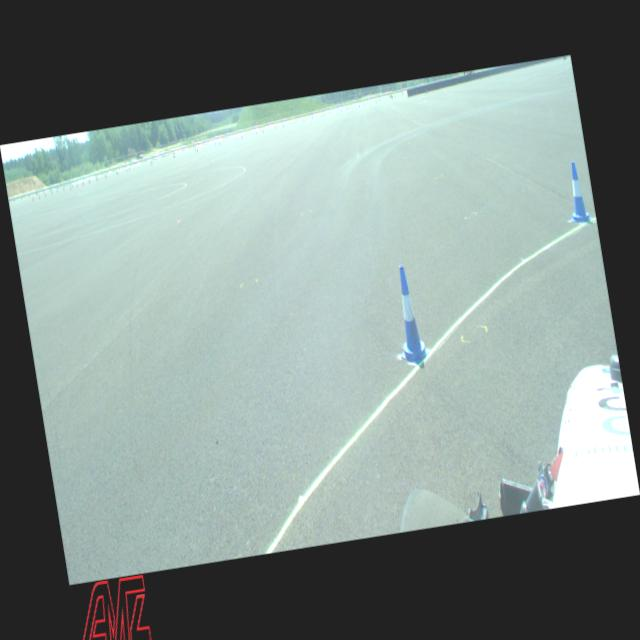blue_cone: (387, 264, 431, 366), (562, 160, 592, 223)
